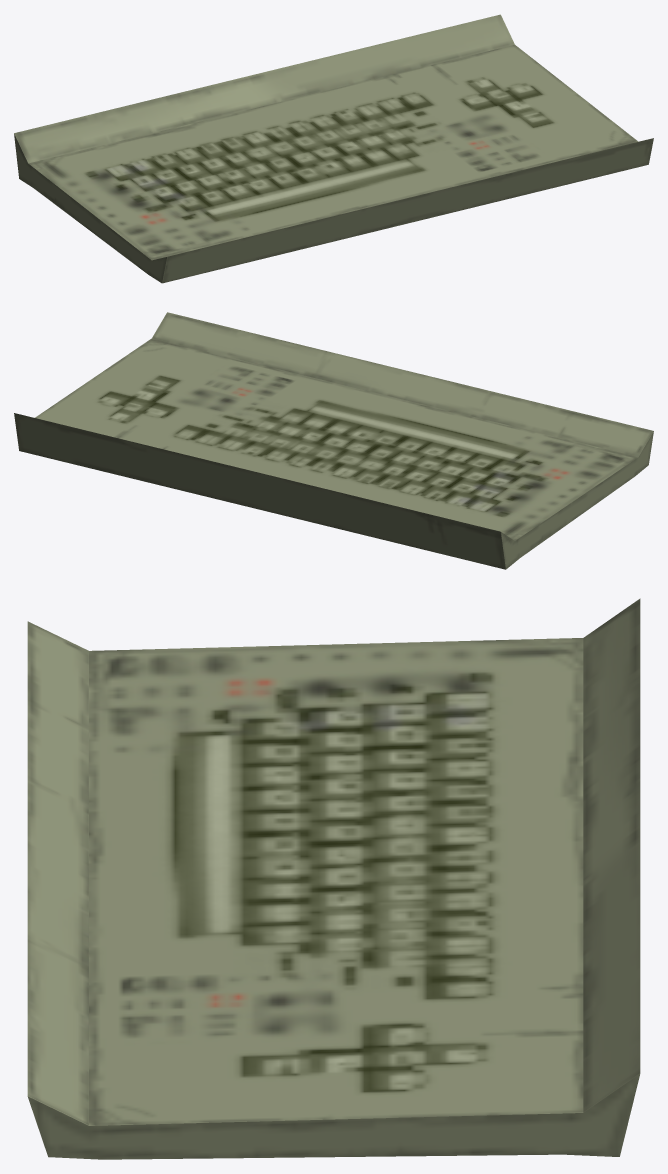
The model's file is keyboard_brutalist.fbx.
The picture shows the model from 3 angles, top to bottom: view 1: azimuth 30°, elevation 25°; view 2: azimuth 150°, elevation 25°; view 3: azimuth 270°, elevation 25°; orthographic projection. The views are drawn at different scales.
Parts seen in each view (by area): view 1: Cube.003; view 2: Cube.003; view 3: Cube.003.
Part boxes in pixels (<box>): Cube.003: <box>14,14,653,283</box>; Cube.003: <box>14,312,653,569</box>; Cube.003: <box>27,598,640,1159</box>.
Bounding box in the file's own units: 50 × 4.24 × 27.26.
1 material, 1 textured.
